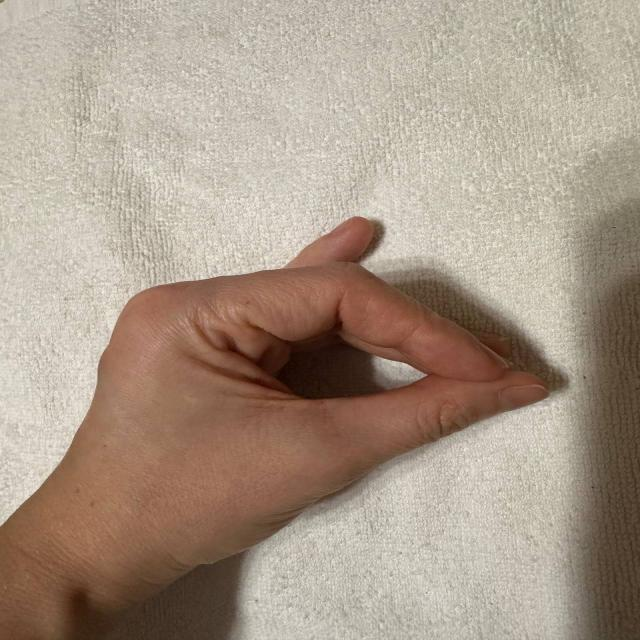iu: (98, 217, 570, 584)
